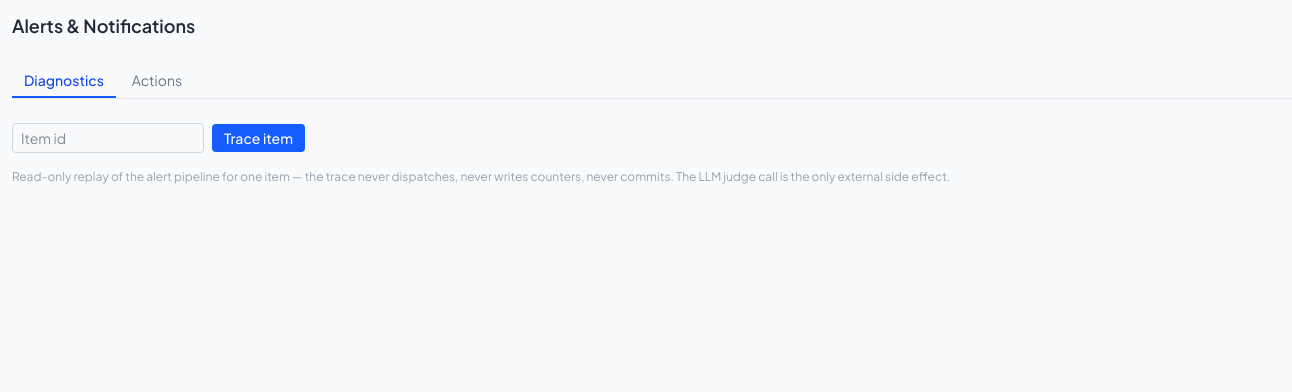
it: Diagnostics sub-view › fetches and renders the item trace with stage outcomes
In the field with placeholder "Item id": (108, 138) [12, 123, 204, 153], type "42"
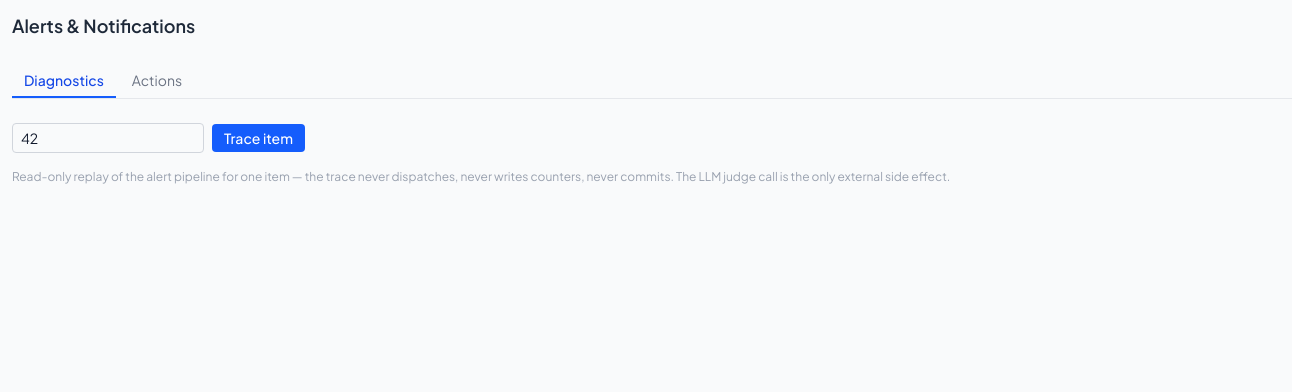
Click the button "Trace item": (258, 138) [212, 124, 305, 152]
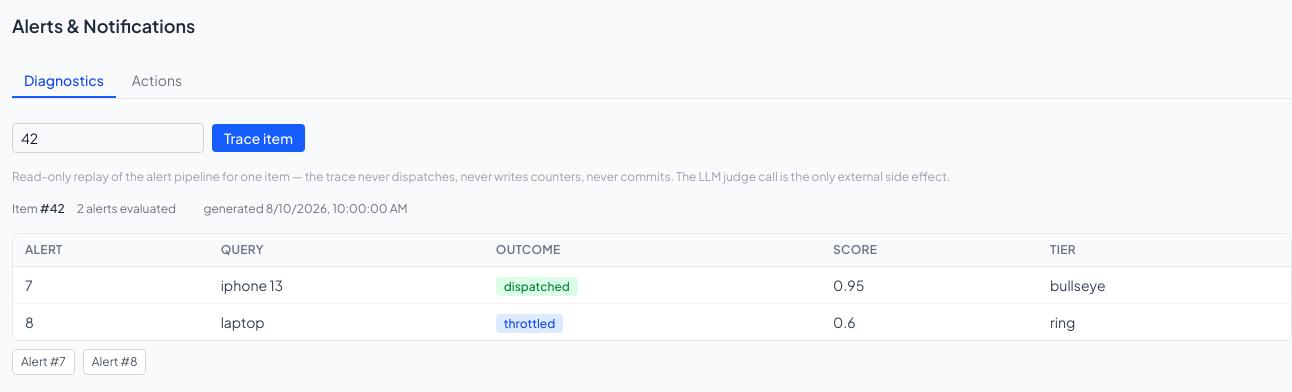
Expected: the text "2 alerts evaluated" is shown, [77, 201, 176, 217]
Expected: the text "dispatched" is shown, [496, 277, 578, 296]
Expected: the text "throttled" is shown, [496, 314, 563, 333]
